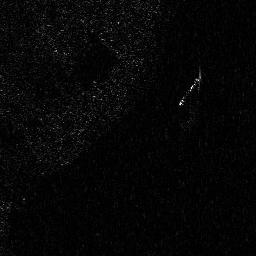ship: (178, 76, 201, 104)
